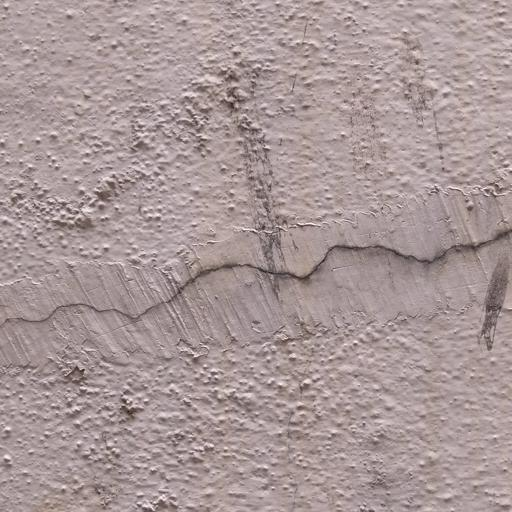minor_crack: (0, 208, 512, 340)
